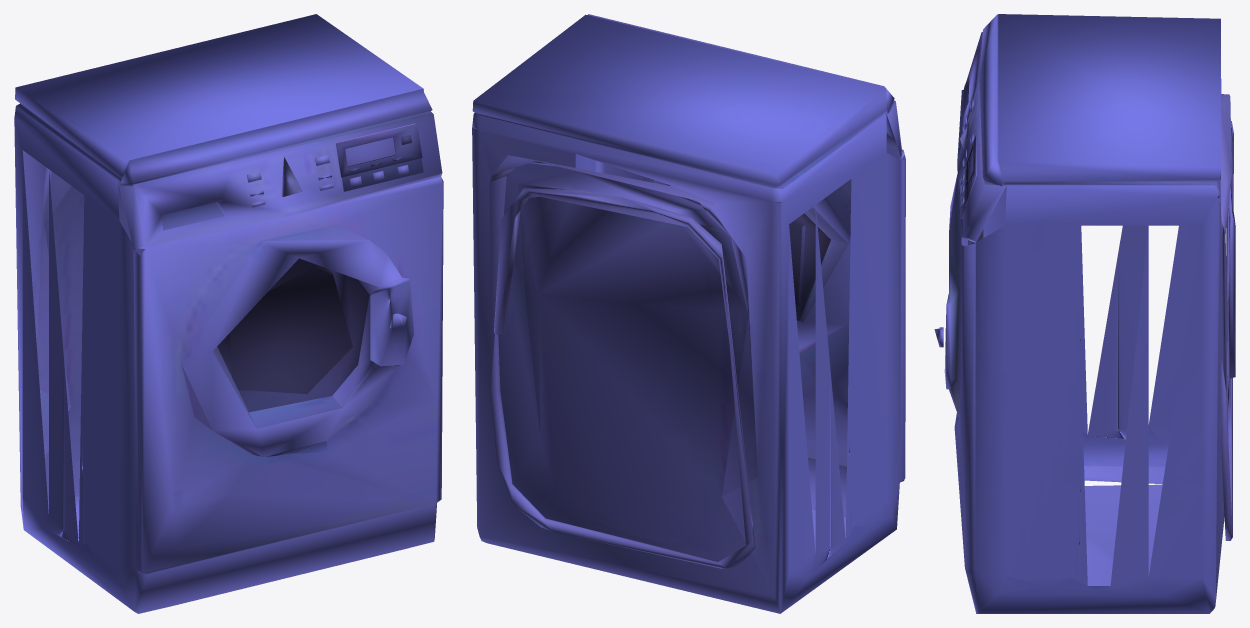
Rendered from model.progressive.glb.
The picture shows the model from 3 angles, left to right: view 1: azimuth 30°, elevation 25°; view 2: azimuth 150°, elevation 25°; view 3: azimuth 270°, elevation 25°; orthographic projection.
Parts seen in each view (by area): view 1: material; view 2: material; view 3: material.
Part boxes in pixels (bbox=[...]): material: bbox=[14, 14, 443, 613]; material: bbox=[472, 14, 905, 613]; material: bbox=[934, 14, 1235, 613].
Bounding box in the file's own units: 1.36 × 1.9 × 1.14.
Materials: 1 (1 with a texture image).
